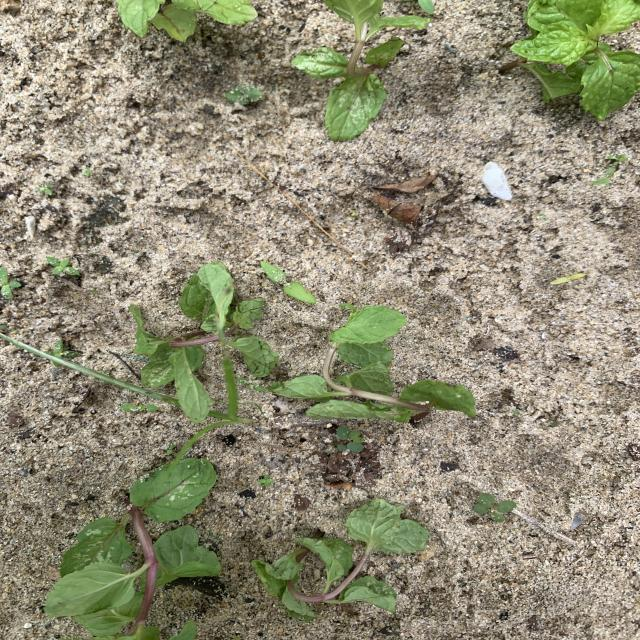crop: (47, 458, 219, 639), (268, 303, 476, 422), (132, 263, 279, 422), (252, 500, 429, 618), (294, 2, 429, 139), (506, 0, 639, 118), (114, 1, 255, 40)
weed: (171, 356, 249, 464), (261, 261, 315, 303), (473, 493, 515, 521), (335, 427, 363, 451), (226, 87, 263, 105), (1, 267, 21, 299), (46, 340, 81, 358), (46, 257, 79, 275), (591, 169, 615, 183), (551, 274, 585, 283), (121, 403, 159, 411), (607, 154, 627, 162), (38, 184, 51, 195), (258, 476, 272, 485), (83, 169, 91, 175)
